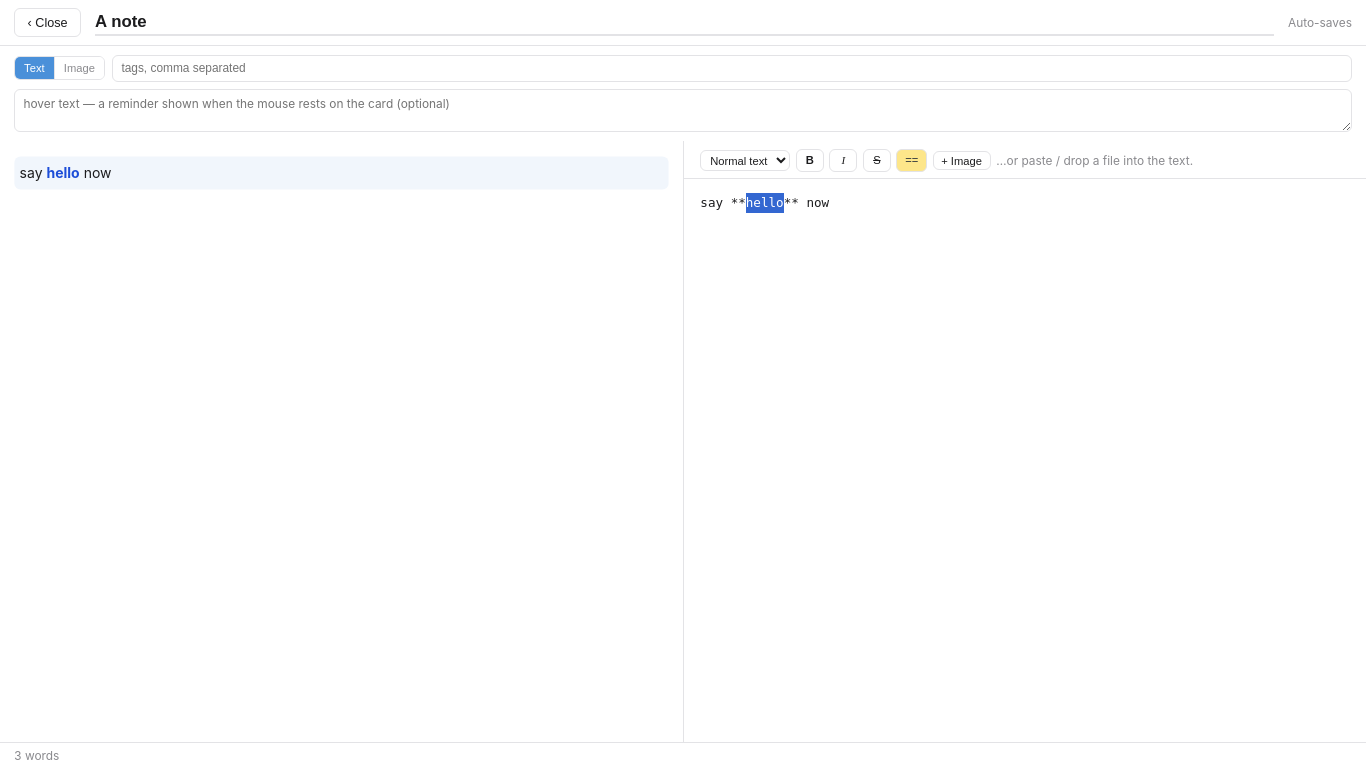
Test: formatting toolbar › unwraps when the same button is clicked again
Expected: the text box with placeholder "Write in Markdown…" holds "say **hello** now", [684,179,1365,742]
Click the button named "Bold" at {"x": 810, "y": 161}, box [796,149,824,172]
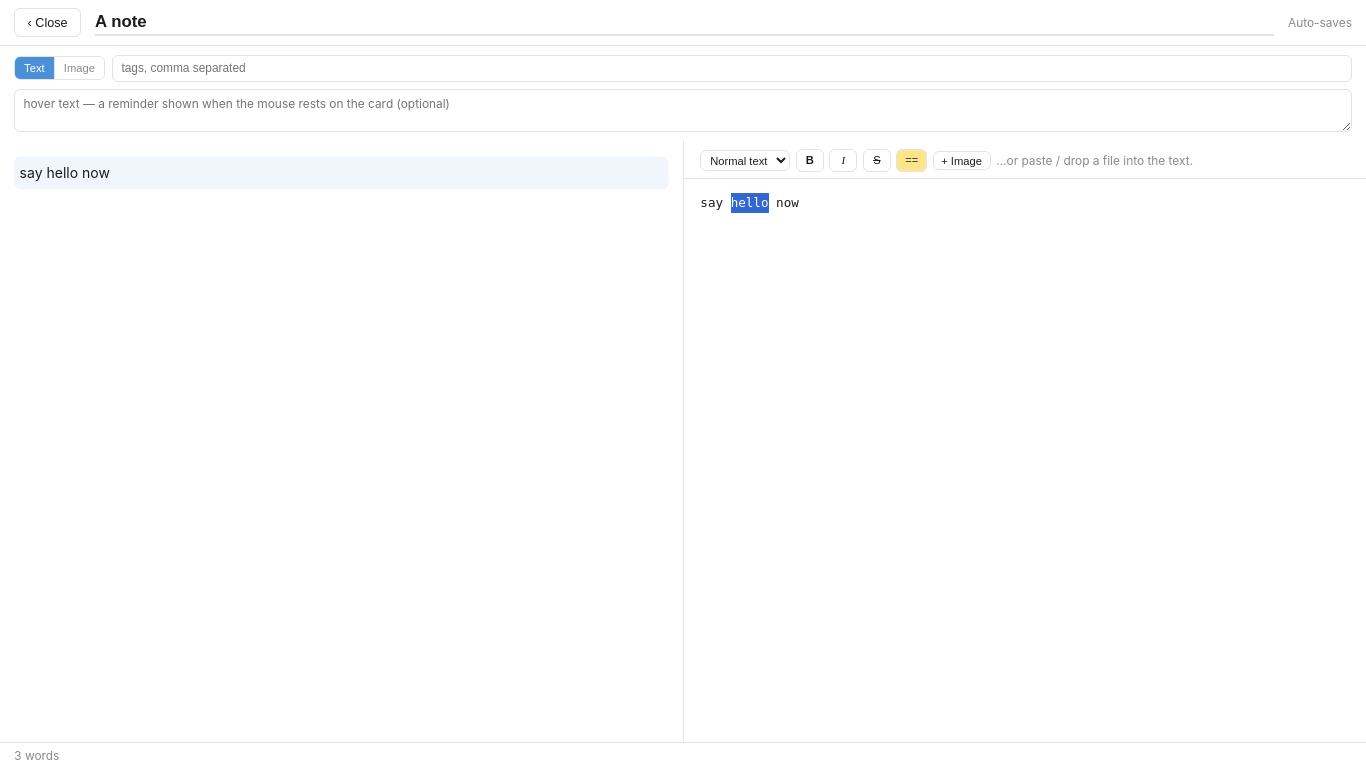
Expected: the text box with placeholder "Write in Markdown…" holds "say hello now", [684,179,1365,742]
